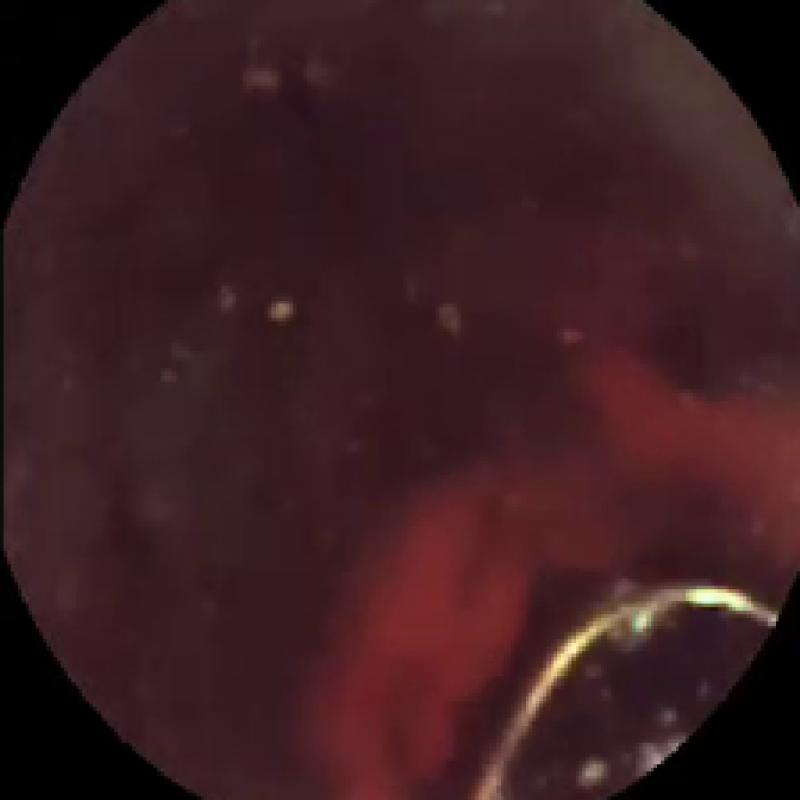bleeding: (314, 343, 800, 800)
